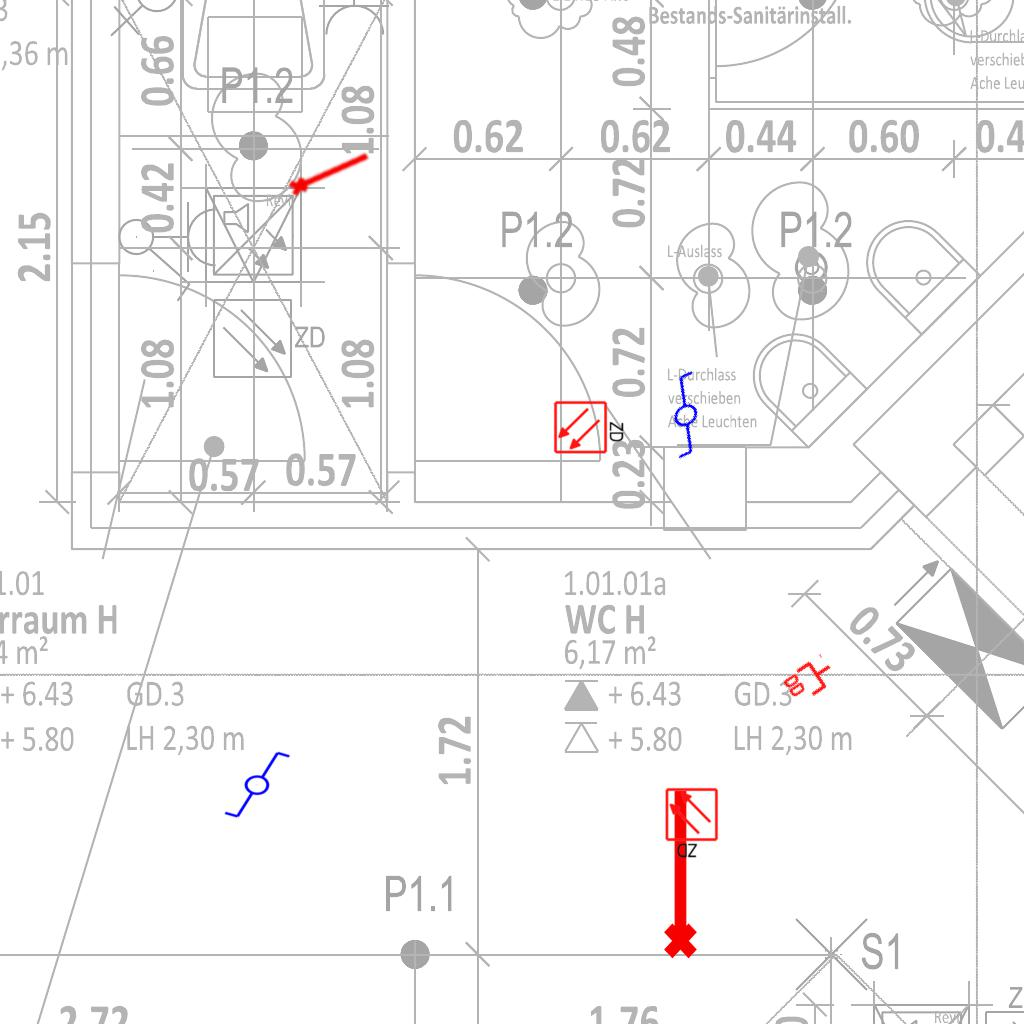ASR_Ansaugoeffnung: (655, 785, 701, 961), (284, 143, 374, 200)
Datenanschluss_zweifach: (779, 652, 841, 709)
Wechselschalter: (628, 364, 736, 470), (214, 748, 292, 820)
ZD_Melder_in_Zwischendecke_mit_Revisionsoeffnung_mind_40_x_40_cm: (553, 398, 627, 455), (664, 787, 721, 861)
